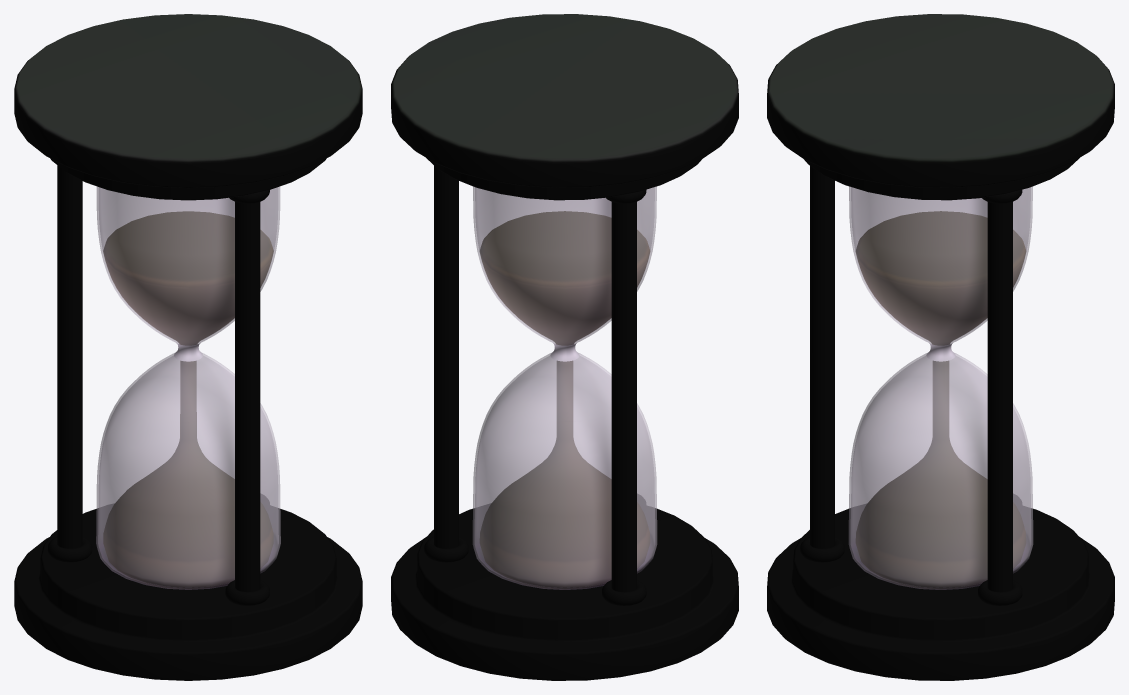
Rendered from Hourglass.gltf.
The picture shows the model from 3 angles, left to right: view 1: azimuth 30°, elevation 25°; view 2: azimuth 150°, elevation 25°; view 3: azimuth 270°, elevation 25°; orthographic projection.
Parts seen in each view (by area): view 1: hourglass_frame, hourglass_glass, hourglass_sand; view 2: hourglass_frame, hourglass_glass, hourglass_sand; view 3: hourglass_frame, hourglass_glass, hourglass_sand.
Part boxes in pixels (bbox=[...]): hourglass_frame: bbox=[14, 14, 362, 680]; hourglass_glass: bbox=[96, 186, 280, 589]; hourglass_sand: bbox=[103, 211, 273, 589]; hourglass_frame: bbox=[391, 14, 738, 680]; hourglass_glass: bbox=[472, 186, 657, 589]; hourglass_sand: bbox=[480, 211, 649, 589]; hourglass_frame: bbox=[767, 14, 1114, 680]; hourglass_glass: bbox=[848, 186, 1033, 589]; hourglass_sand: bbox=[856, 211, 1025, 589].
Bounding box in the file's own units: 0.8355 × 1.39 × 0.8355.
2 materials, 2 textured.
